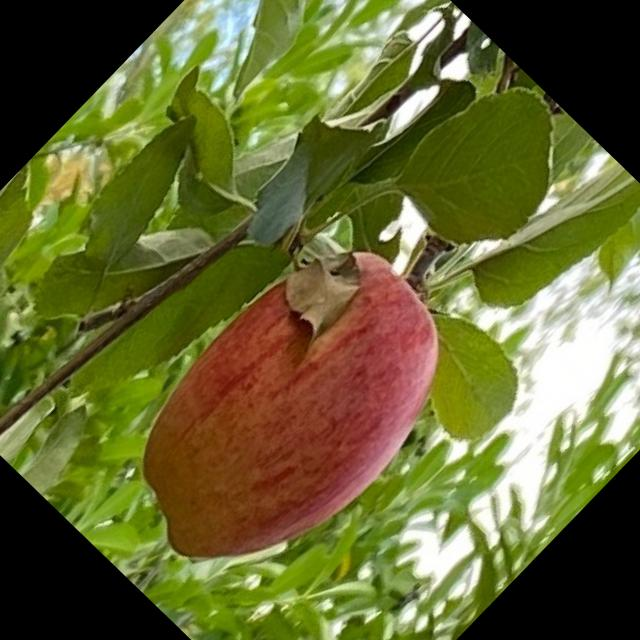Apples: (89, 214, 488, 616)
